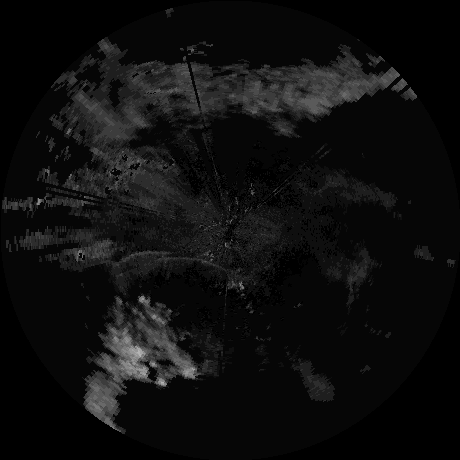frontgust: (111, 250, 247, 280)
